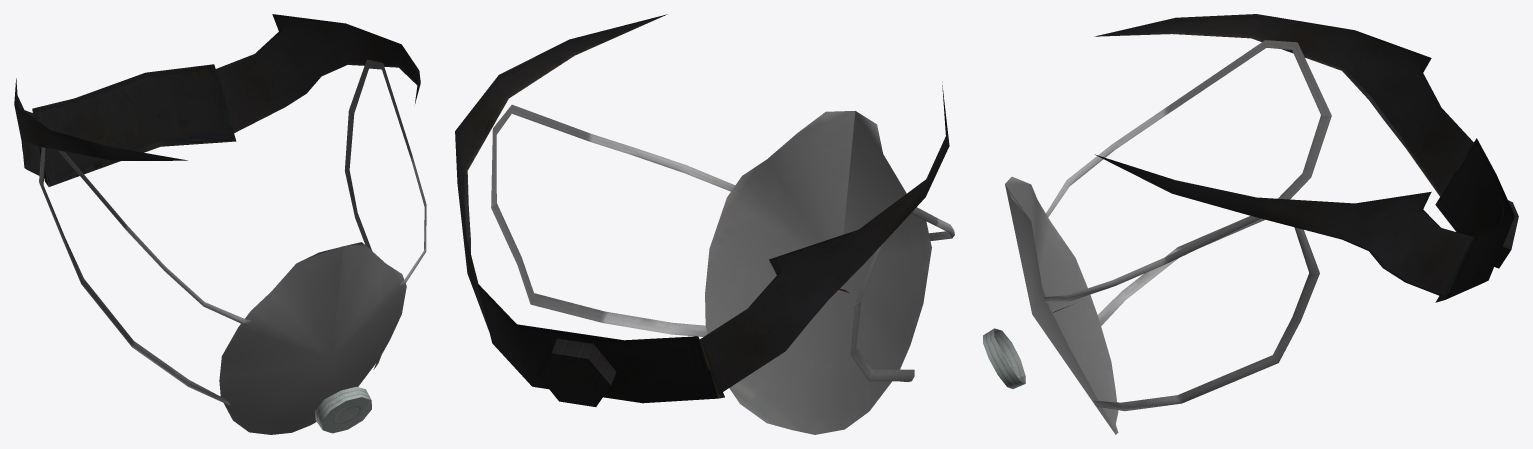
File: mask.fbx
3 renders of one model, left to right at view 1: azimuth 30°, elevation 25°; view 2: azimuth 150°, elevation 25°; view 3: azimuth 270°, elevation 25°, orthographic. The views are drawn at different scales.
Parts seen in each view (by area): view 1: Object_5.001; view 2: Object_5.001; view 3: Object_5.001.
Boxes of the visible parts, x1,y1,x2,y2 form: Object_5.001: [14, 14, 426, 434]; Object_5.001: [455, 14, 954, 434]; Object_5.001: [983, 14, 1518, 434].
Bounding box in the file's own units: 20.24 × 16.91 × 24.97.
Materials: 1 (1 with a texture image).
